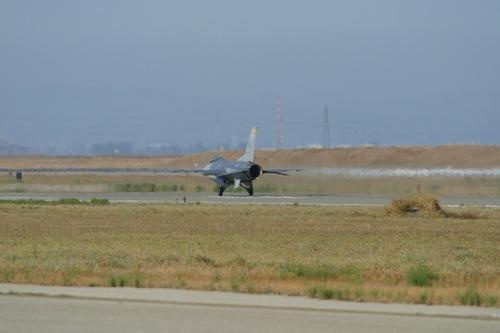aeroplane: (173, 125, 305, 196)
